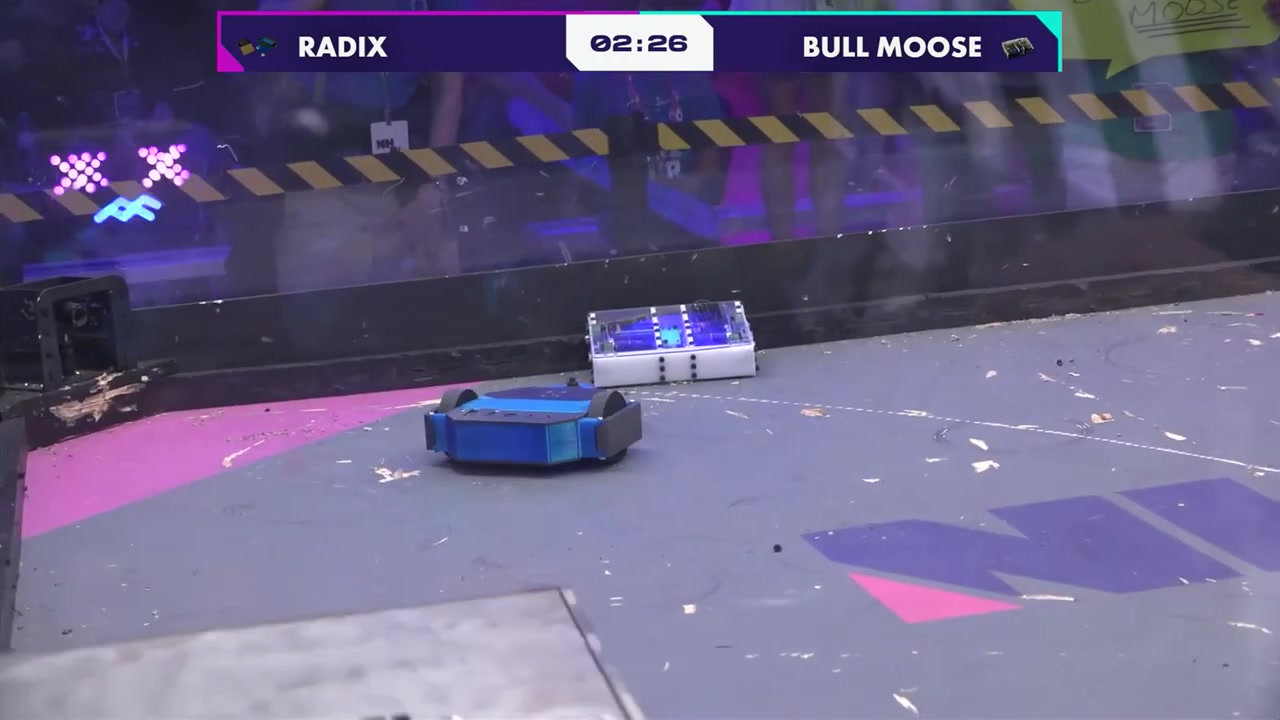combatbot: (423, 376, 642, 475), (587, 301, 761, 384)
